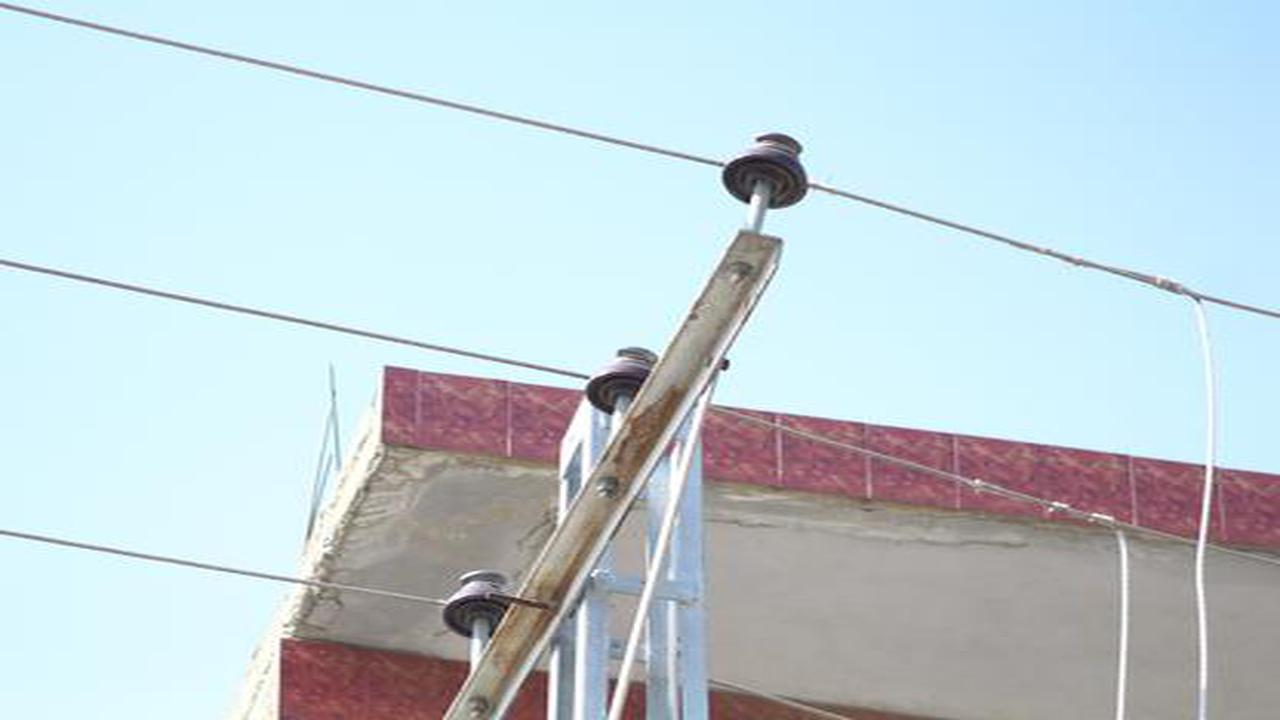insulator_pin: (717, 122, 815, 213), (573, 338, 662, 426), (434, 561, 524, 643)
